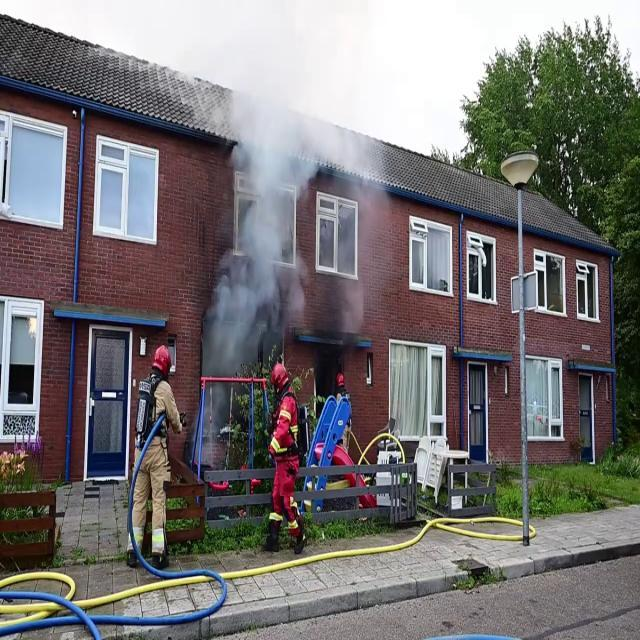Smoke: (204, 9, 310, 373)
